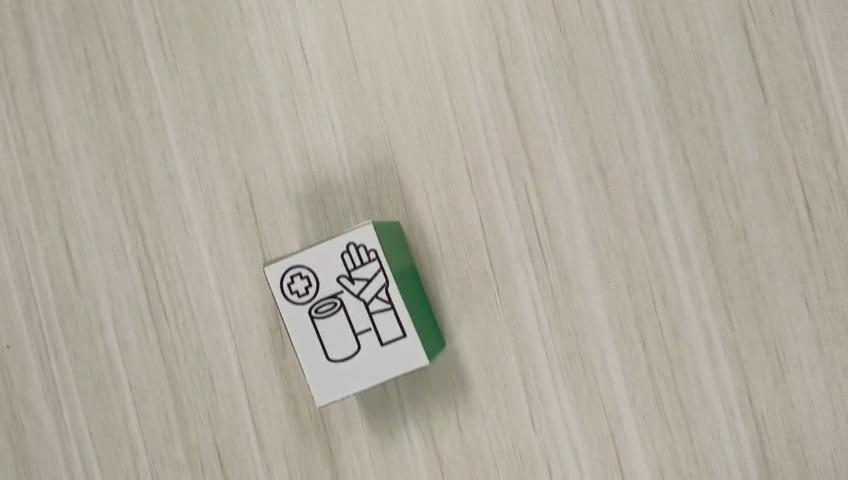Bandages: (262, 218, 446, 408)
